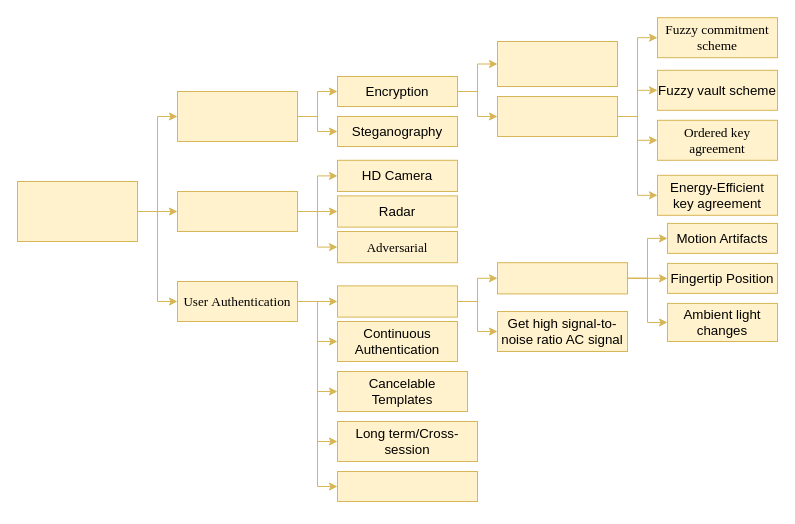
Some shapes in this 795 by 524 pixel diagram are drawn without their labels. Each missing label, with the centre of its shape:
"Attack" belongs at point 237,211.
"Eliminate noise" belongs at point 397,301.
"Emotion" belongs at point 407,486.
"External environment" belongs at point 562,278.
"Generate the entity identifier" belongs at point 557,63.
"Key distribution solution" belongs at point 557,116.
"Secure communication" belongs at point 237,116.
"Security Application based on PPG" belongs at point 77,211.
